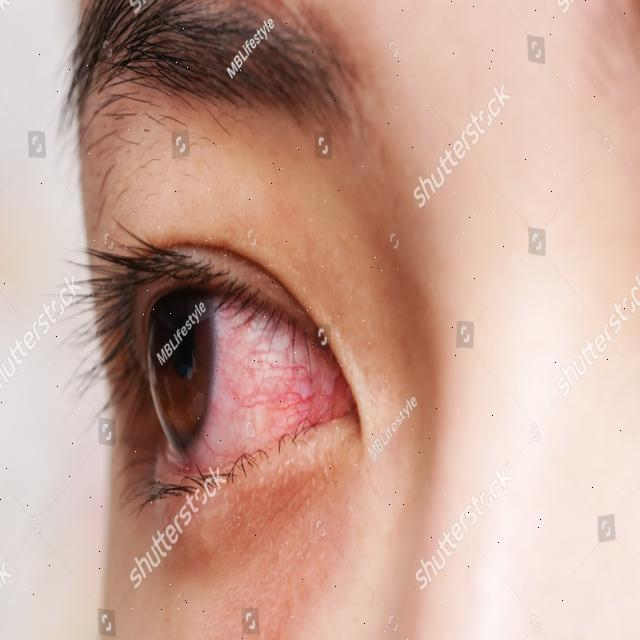Conjunctivitis: (191, 310, 341, 446)
